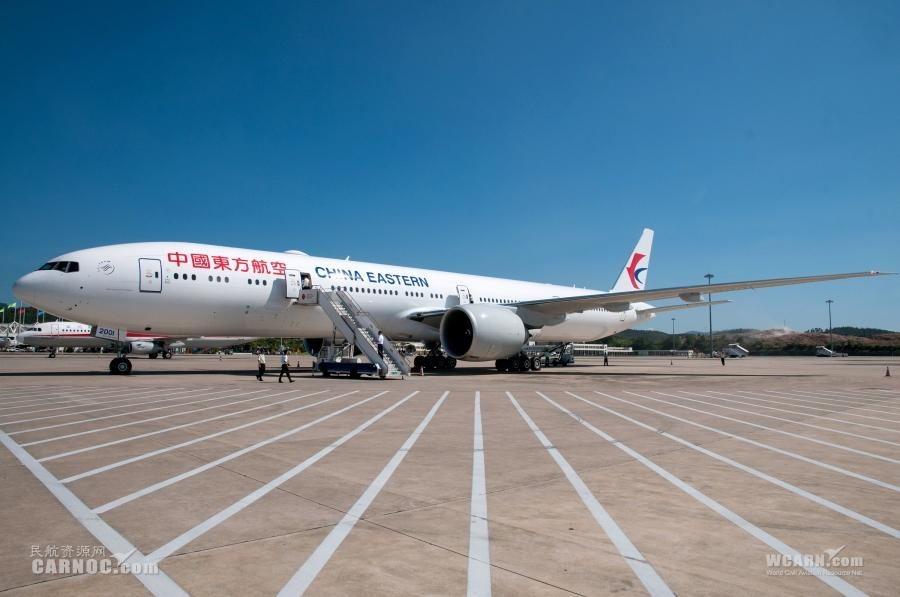airplane: (11, 207, 889, 375)
